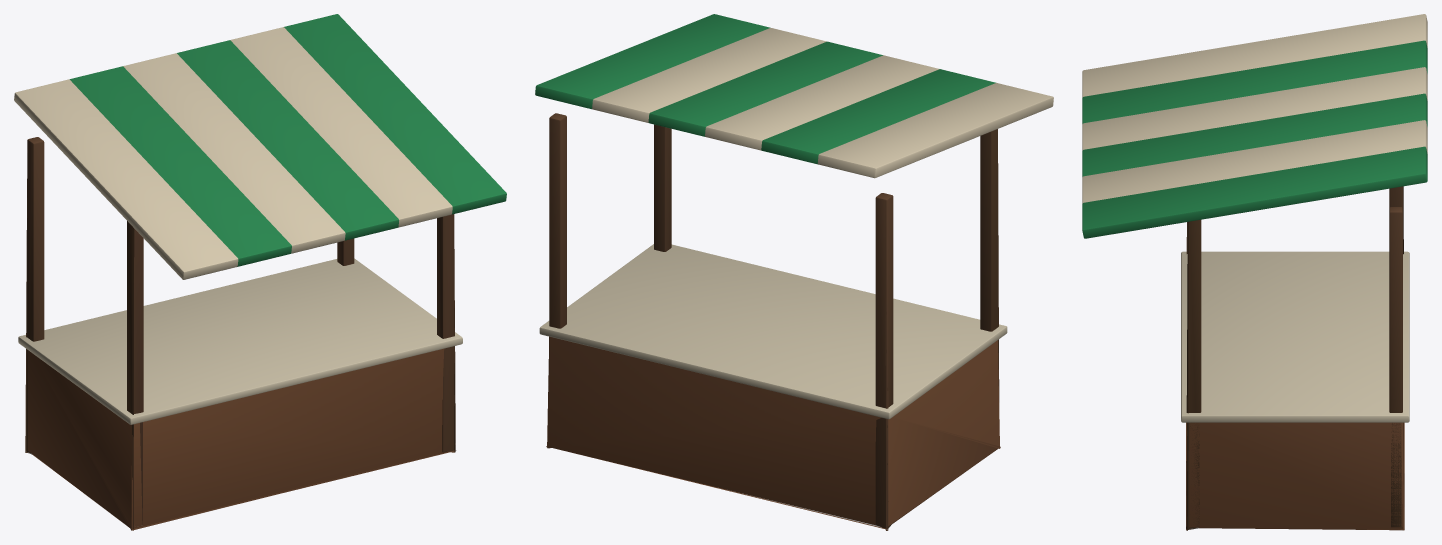
File: st-10nfh0l.glb
The picture shows the model from 3 angles, left to right: view 1: azimuth 30°, elevation 25°; view 2: azimuth 150°, elevation 25°; view 3: azimuth 270°, elevation 25°; orthographic projection. The views are drawn at different scales.
Size of the model in its own units: 2.9 by 2.93 by 2.57.
